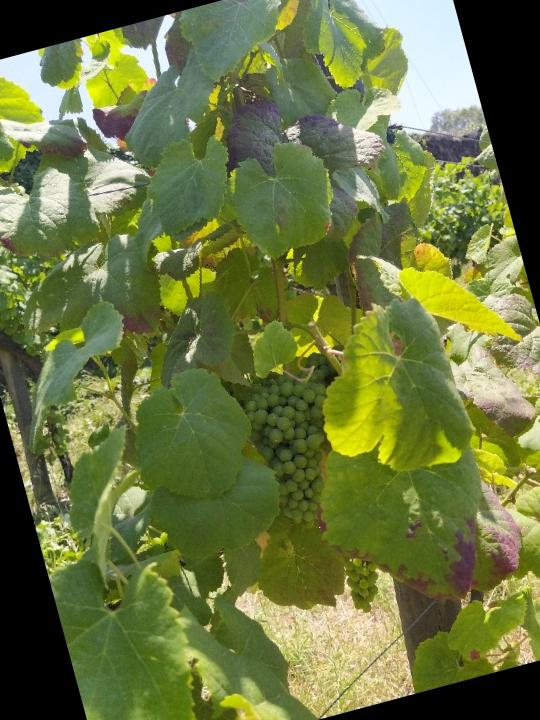grape: (230, 360, 364, 541)
